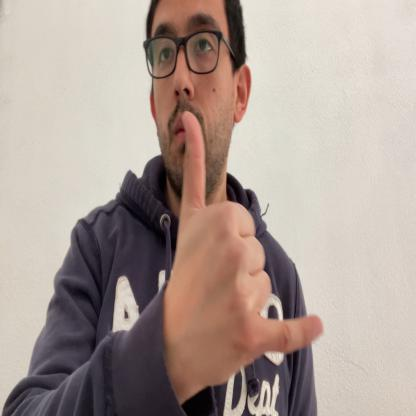Y: (179, 111, 323, 381)
